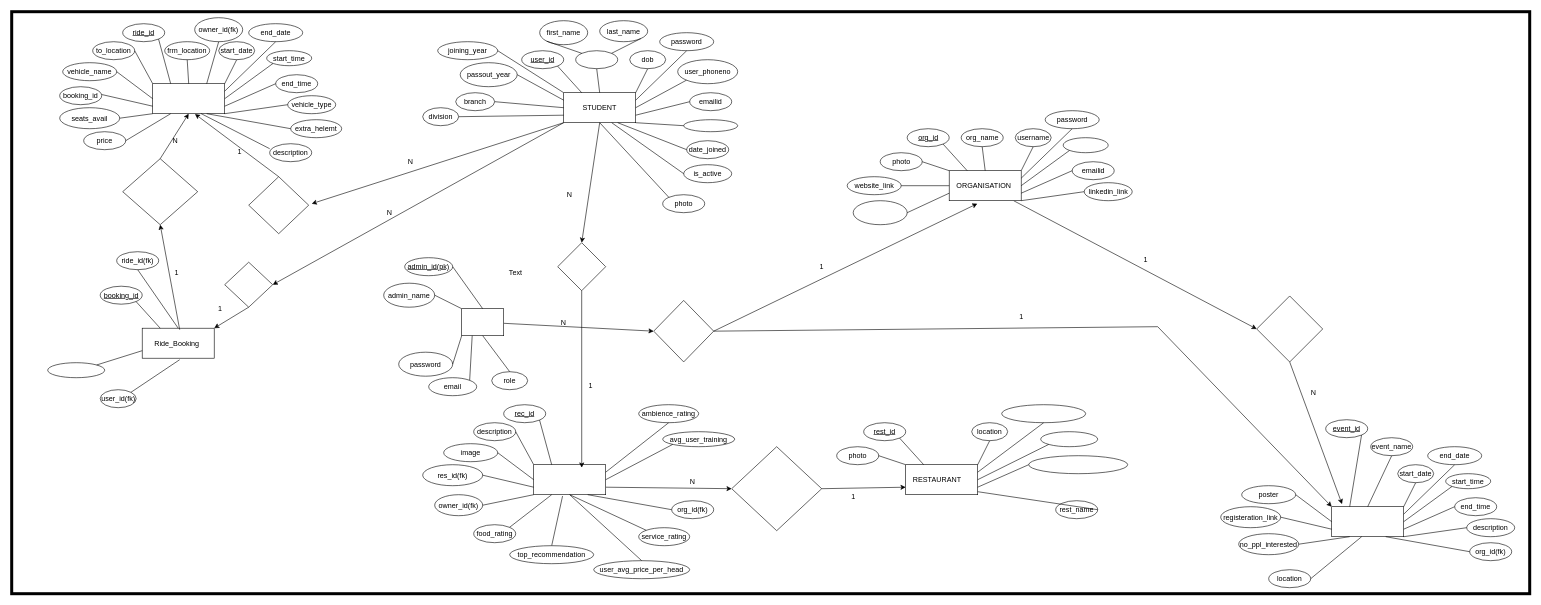
This 1541x605 diagram has some shape labels left out. The centre of each missing label's shape, as x and y in pixels:
about: [1085,145]
Adds or Deletes: [581,266]
Adds or deletes events: [1289,328]
ADMIN: [482,322]
Approves or Disapproves: [683,331]
booking listing adapts dynamically: [160,191]
booking_date: [76,370]
Books ride: [248,284]
EVENT_LISTING: [1367,521]
gender: [710,125]
instagram_link: [880,212]
no_of_recommendations: [1078,464]
overall_price_per_head: [1043,413]
overall_rating: [1069,439]
RECOMMENDATION: [569,479]
restaurant listing adapts dynamically: [776,488]
RideListing: [188,98]
user_name: [596,59]
Views or Adds ride: [278,205]
